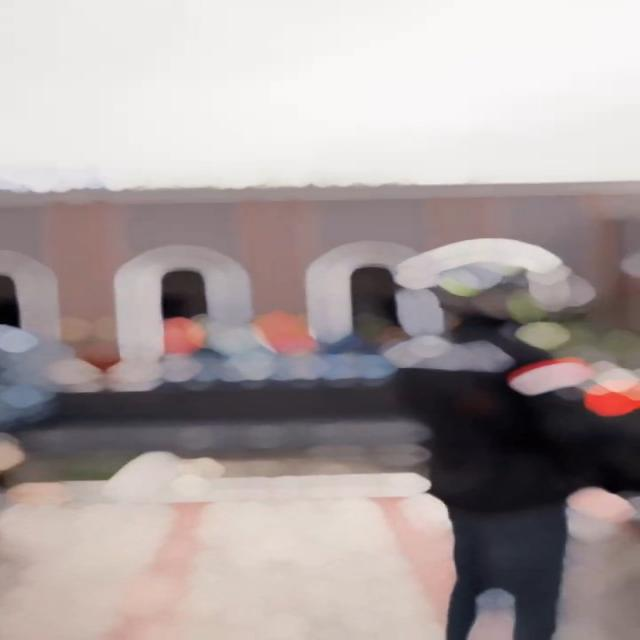Helmet_Wearer: (403, 237, 591, 322)
Jacket_Wearer: (387, 328, 640, 504)
Person: (385, 246, 640, 640)
